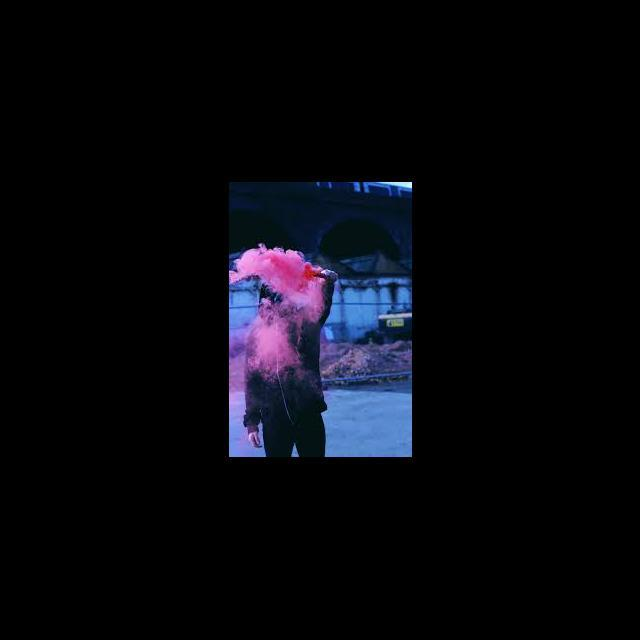Smoke: (230, 242, 304, 292)
